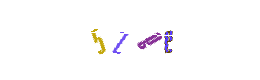5: (83, 0, 163, 80)
E: (109, 0, 189, 80)
G: (102, 0, 182, 80)
Z: (89, 0, 169, 80)
